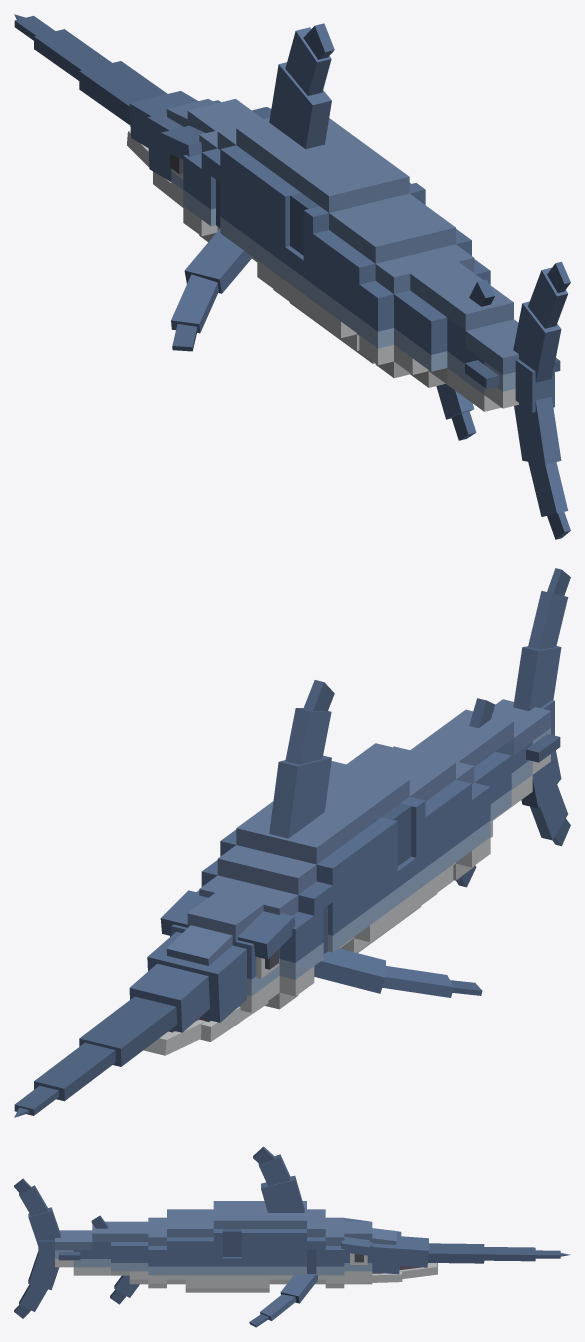
File: Swordfish.glb
3 views of the same model, one above another, from view 1: azimuth 30°, elevation 25°; view 2: azimuth 150°, elevation 25°; view 3: azimuth 270°, elevation 25° (orthographic). The views are drawn at different scales.
Visible parts, largest first — view 1: S1, Head, S2, S4, Tail, S6, S5, S3; view 2: Head, S1, S2, Tail, S4, S6, S5, S3; view 3: Head, S1, S2, Tail, S4, S5, S6, S3.
Part boxes in pixels (x1,y1,x2,y2): S1: [171, 23, 353, 351]; Head: [14, 14, 271, 241]; S2: [257, 136, 425, 343]; S4: [341, 214, 490, 378]; Tail: [513, 261, 570, 539]; S6: [447, 279, 560, 411]; S5: [394, 262, 494, 440]; S3: [313, 193, 436, 363]; Head: [14, 875, 314, 1117]; S1: [201, 680, 482, 997]; S2: [323, 761, 425, 952]; Tail: [513, 568, 570, 846]; S4: [357, 743, 490, 880]; S6: [447, 698, 560, 818]; S5: [410, 723, 511, 887]; S3: [346, 757, 453, 926]; Head: [325, 1217, 570, 1288]; S1: [249, 1146, 325, 1327]; S2: [213, 1201, 269, 1292]; Tail: [14, 1178, 60, 1318]; S4: [148, 1209, 185, 1288]; S5: [110, 1221, 148, 1304]; S6: [55, 1215, 110, 1275]; S3: [185, 1209, 213, 1292].
Bounding box in the file's own units: 7.72 × 8.08 × 23.88.
